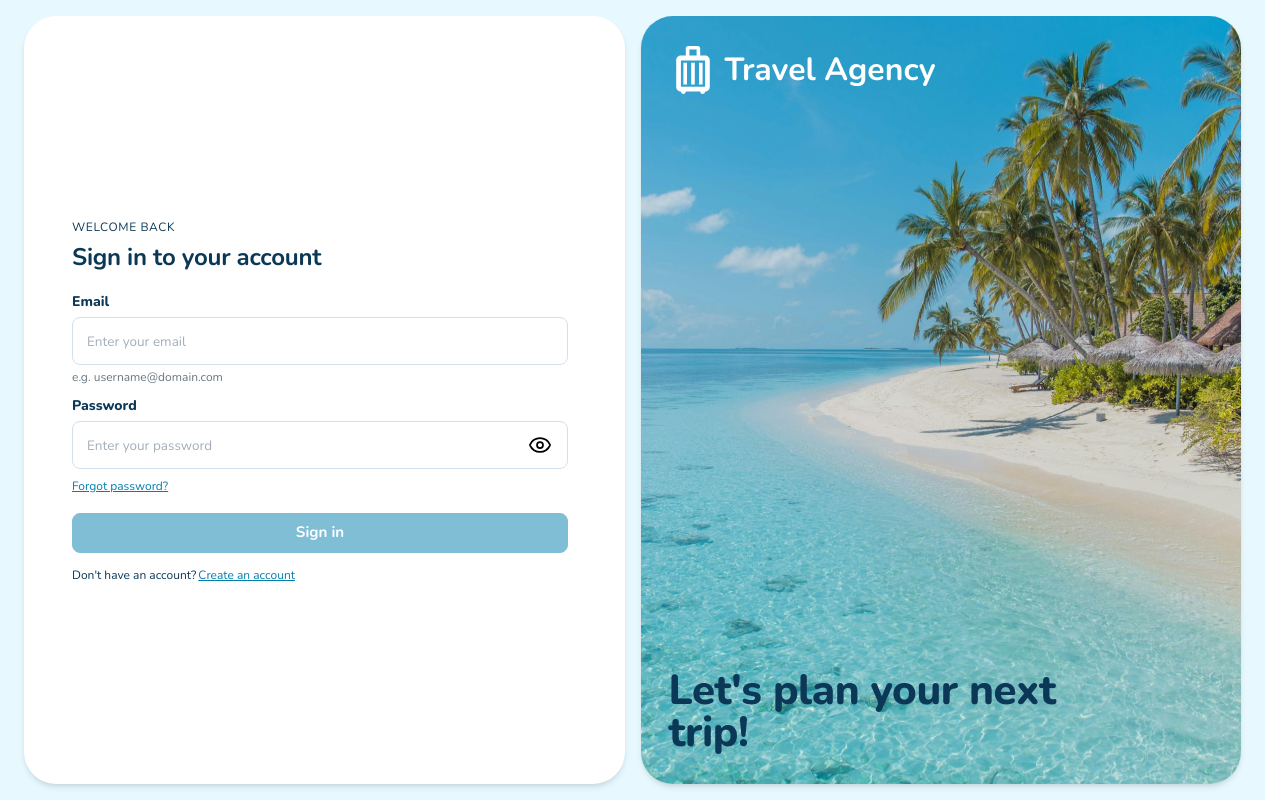
Test: AppRouter › navigates from login page to reset password screen when clicking Forgot password link
This screenshot has width=1280, height=800.
Click the button "Forgot password?".
click(120, 486)  # box [72,478,168,494]
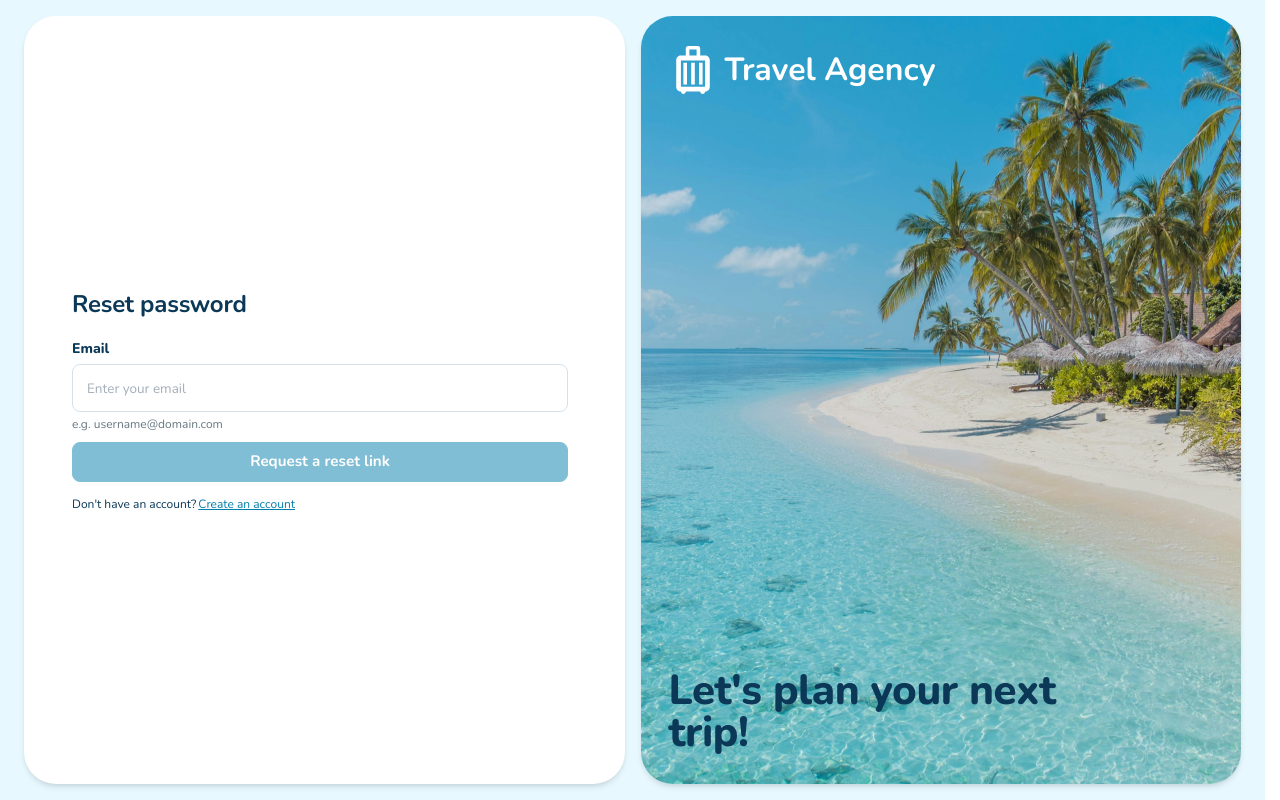
Expected: the heading "Reset password" is shown, [72,288,247,320]
